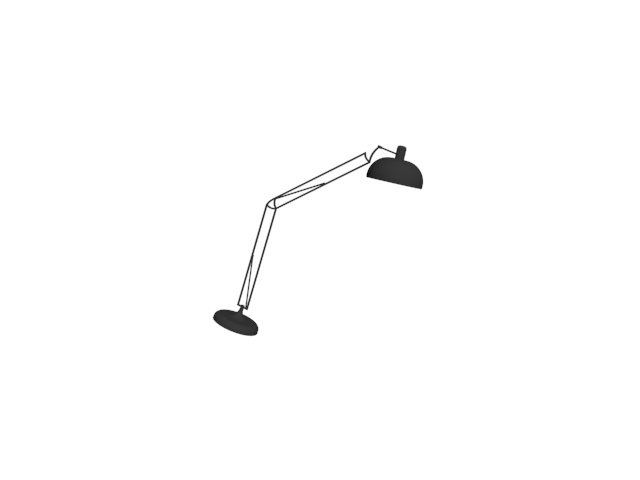desk_lamp: (209, 145, 424, 343)
